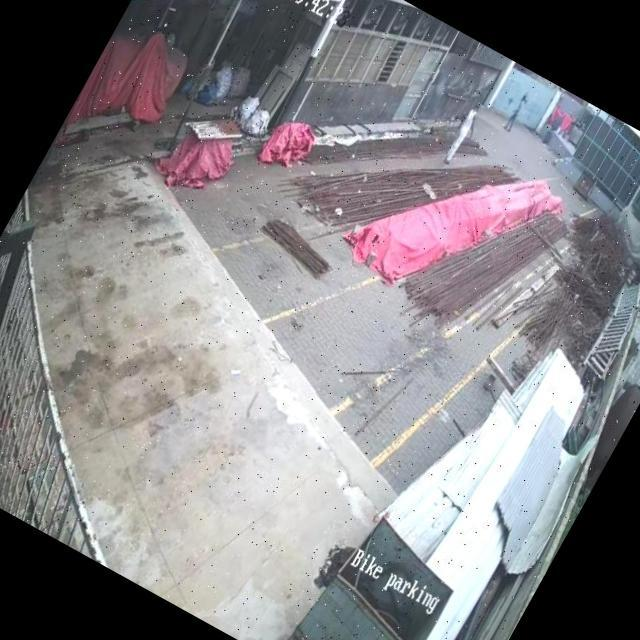person: (444, 100, 484, 159)
